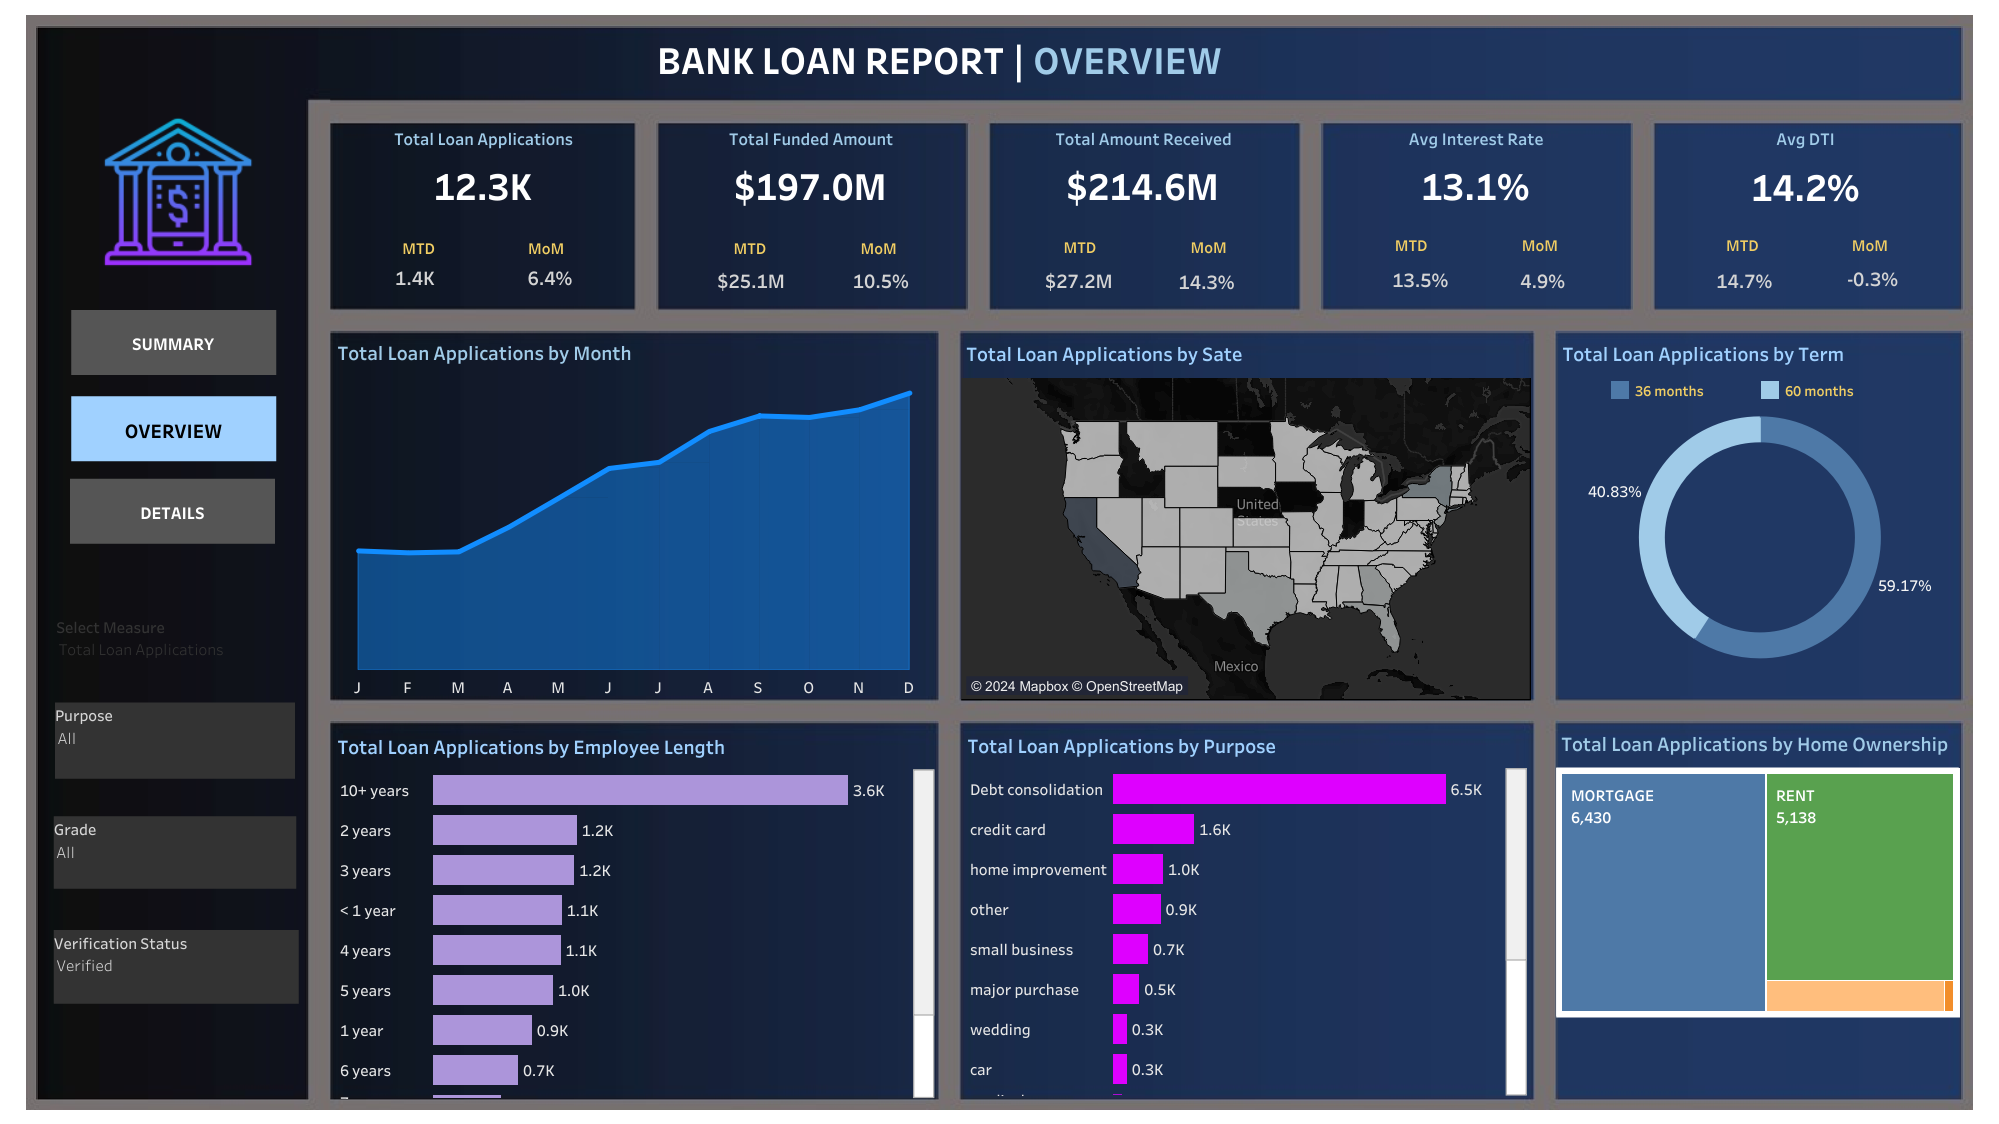

This screenshot's page, from the dashboard's own definition file:
{"tool":"tableau","page":{"name":"OVERVIEW","canvas":[1600,900],"ordinal":1},"visuals":[{"type":"image","param":"D:/Tableau/Bank Loan Report/Tableau Background 2.jpg","box":[8,8,1584,884]},{"type":"text","box":[523,20,584,54]},{"type":"image","param":"D:/Tableau/Bank Loan Report/online-banking.png","box":[78,93,130,121]},{"type":"worksheet","title":"Total Loan Applications","mark":"Automatic","box":[265,95,244,73]},{"type":"worksheet","title":"Total Funded Amount","mark":"Automatic","box":[527,95,244,73]},{"type":"worksheet","title":"Total Amount Received","mark":"Automatic","box":[792,95,246,73]},{"type":"worksheet","title":"Avg Interest Rate","mark":"Automatic","box":[1057,95,248,73]},{"type":"worksheet","title":"Avg DTI","mark":"Automatic","box":[1321,95,247,74]},{"type":"text","box":[1079,181,100,30]},{"type":"text","box":[1182,181,100,30]},{"type":"text","box":[1344,181,100,30]},{"type":"text","box":[1446,181,100,30]},{"type":"text","box":[814,182,100,30]},{"type":"text","box":[917,182,100,30]},{"type":"text","box":[285,183,100,30]},{"type":"text","box":[387,183,100,30]},{"type":"text","box":[550,183,100,30]},{"type":"text","box":[653,183,100,30]},{"type":"worksheet","title":"MTD Total Loan Applications","mark":"Automatic","box":[304,205,58,33]},{"type":"worksheet","title":"MoM Loan Applications","mark":"Automatic","box":[408,205,65,33]},{"type":"worksheet","title":"MTD Avg Interest Rate","mark":"Automatic","box":[1097,205,79,37]},{"type":"worksheet","title":"MoM Avg DTI","mark":"Automatic","box":[1465,205,67,36]},{"type":"worksheet","title":"MoM Avg Interest Rate","mark":"Automatic","box":[1199,206,70,36]},{"type":"worksheet","title":"MTD Avg DTI","mark":"Automatic","box":[1360,206,72,36]},{"type":"worksheet","title":"MTD Total Funded Amount","mark":"Automatic","box":[561,207,81,33]},{"type":"worksheet","title":"MoM Total Funded Amount","mark":"Automatic","box":[667,207,75,33]},{"type":"worksheet","title":"MTD Total Amount Received","mark":"Automatic","box":[824,208,80,31]},{"type":"worksheet","title":"MoM Total Amount Received","mark":"Automatic","box":[925,209,82,31]},{"type":"dashboard-object","box":[57,248,164,52]},{"type":"worksheet","title":"Month","mark":"Area","rows":["Calculation_3276931738663485441","Calculation_3276931738663485441"],"cols":["issue_date"],"box":[266,265,481,293]},{"type":"worksheet","title":"State","mark":"Multipolygon","box":[769,266,455,293]},{"type":"worksheet","title":"Term","mark":"Pie","rows":["Calculation_3276931738672951299","Calculation_3276931738672951299"],"box":[1246,266,323,291]},{"type":"legend","title":"Term","param":"[federated.03xjj781i5n8ud12js5ev0tixsc8].[none:term:nk]","box":[1286,302,242,22]},{"type":"dashboard-object","box":[57,317,164,52]},{"type":"dashboard-object","box":[56,383,164,52]},{"type":"parameter","param":"[Parameters].[Parameter 1]","box":[45,491,189,51]},{"type":"filter","title":"Avg DTI","param":"[federated.03xjj781i5n8ud12js5ev0tixsc8].[none:purpose:nk]","box":[44,562,192,61]},{"type":"worksheet","title":"Home Ownership","mark":"Automatic","box":[1245,578,322,300]},{"type":"worksheet","title":"Purpose","mark":"Automatic","rows":["purpose"],"cols":["Calculation_3276931738663485441"],"box":[770,579,452,297]},{"type":"worksheet","title":"Employee Length","mark":"Automatic","rows":["emp_length"],"cols":["Calculation_3276931738663485441"],"box":[266,580,482,298]},{"type":"filter","title":"Avg DTI","param":"[federated.03xjj781i5n8ud12js5ev0tixsc8].[none:grade:nk]","box":[43,653,194,58]},{"type":"filter","title":"Avg DTI","param":"[federated.03xjj781i5n8ud12js5ev0tixsc8].[none:verification_status:nk]","box":[43,744,196,59]}]}

Visuals, with their boxes in screenshot pixels (x1, y1, x2, y2), scaled from the page's 1600x900 canvas onto the 1999x1124 screenshot:
image: locate(10, 10, 1989, 1114)
text: locate(653, 25, 1383, 92)
image: locate(97, 116, 260, 267)
"Total Loan Applications" worksheet: locate(331, 119, 636, 210)
"Total Funded Amount" worksheet: locate(658, 119, 963, 210)
"Total Amount Received" worksheet: locate(990, 119, 1297, 210)
"Avg Interest Rate" worksheet: locate(1321, 119, 1630, 210)
"Avg DTI" worksheet: locate(1650, 119, 1959, 211)
text: locate(1348, 226, 1473, 264)
text: locate(1477, 226, 1602, 264)
text: locate(1679, 226, 1804, 264)
text: locate(1807, 226, 1932, 264)
text: locate(1017, 227, 1142, 265)
text: locate(1146, 227, 1271, 265)
text: locate(356, 229, 481, 266)
text: locate(484, 229, 608, 266)
text: locate(687, 229, 812, 266)
text: locate(816, 229, 941, 266)
"MTD Total Loan Applications" worksheet: locate(380, 256, 452, 297)
"MoM Loan Applications" worksheet: locate(510, 256, 591, 297)
"MTD Avg Interest Rate" worksheet: locate(1371, 256, 1469, 302)
"MoM Avg DTI" worksheet: locate(1830, 256, 1914, 301)
"MoM Avg Interest Rate" worksheet: locate(1498, 257, 1585, 302)
"MTD Avg DTI" worksheet: locate(1699, 257, 1789, 302)
"MTD Total Funded Amount" worksheet: locate(701, 259, 802, 300)
"MoM Total Funded Amount" worksheet: locate(833, 259, 927, 300)
"MTD Total Amount Received" worksheet: locate(1029, 260, 1129, 298)
"MoM Total Amount Received" worksheet: locate(1156, 261, 1258, 300)
dashboard-object: locate(71, 310, 276, 375)
"Month" worksheet (Area marks): locate(332, 331, 933, 697)
"State" worksheet (Multipolygon marks): locate(961, 332, 1529, 698)
"Term" worksheet (Pie marks): locate(1557, 332, 1960, 696)
"Term" legend: locate(1607, 377, 1909, 405)
dashboard-object: locate(71, 396, 276, 461)
dashboard-object: locate(70, 478, 275, 543)
parameter: locate(56, 613, 292, 677)
"Avg DTI" filter: locate(55, 702, 295, 778)
"Home Ownership" worksheet: locate(1555, 722, 1958, 1097)
"Purpose" worksheet: locate(962, 723, 1527, 1094)
"Employee Length" worksheet: locate(332, 724, 935, 1097)
"Avg DTI" filter: locate(54, 816, 296, 888)
"Avg DTI" filter: locate(54, 929, 299, 1003)
